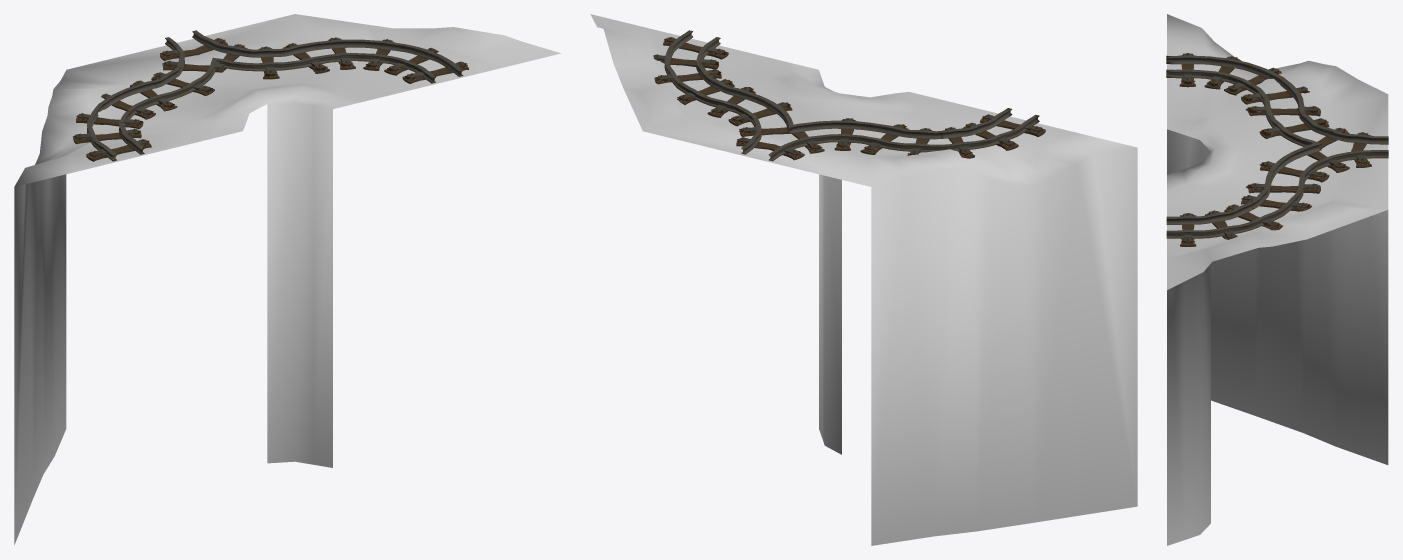
File: f_link_left.fbx
3 renders of one model, left to right at view 1: azimuth 30°, elevation 25°; view 2: azimuth 150°, elevation 25°; view 3: azimuth 270°, elevation 25°, orthographic. The views are drawn at different scales.
Parts seen in each view (by area): view 1: f_link_left; view 2: f_link_left; view 3: f_link_left.
Boxes of the visible parts, box(x1,y1,x2,y2) form: f_link_left: box(14, 14, 560, 544); f_link_left: box(590, 14, 1137, 545); f_link_left: box(1166, 14, 1388, 545).
Bounding box in the file's own units: 23.95 × 15.46 × 8.15.
